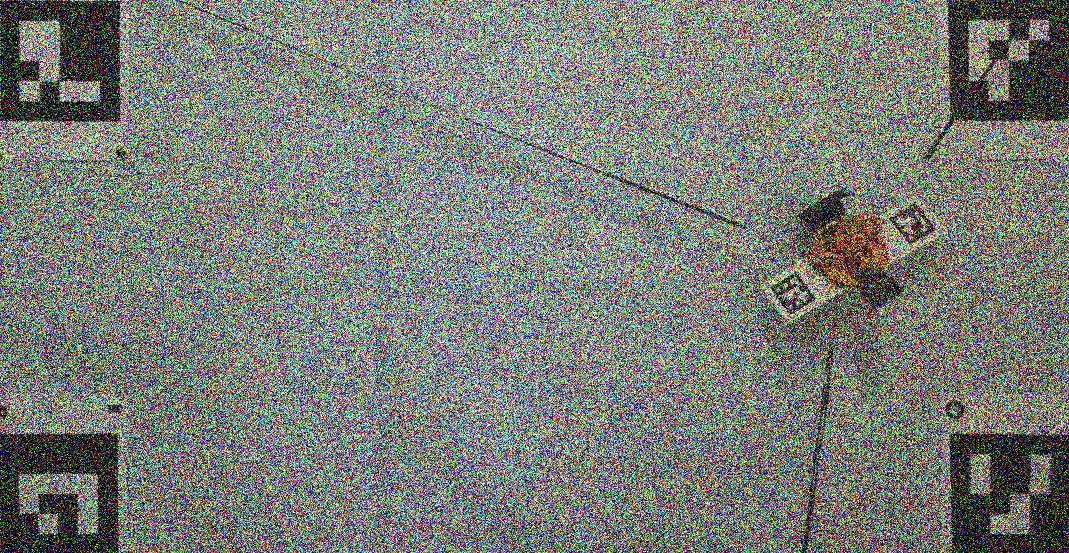robot: (797, 193, 907, 312)
